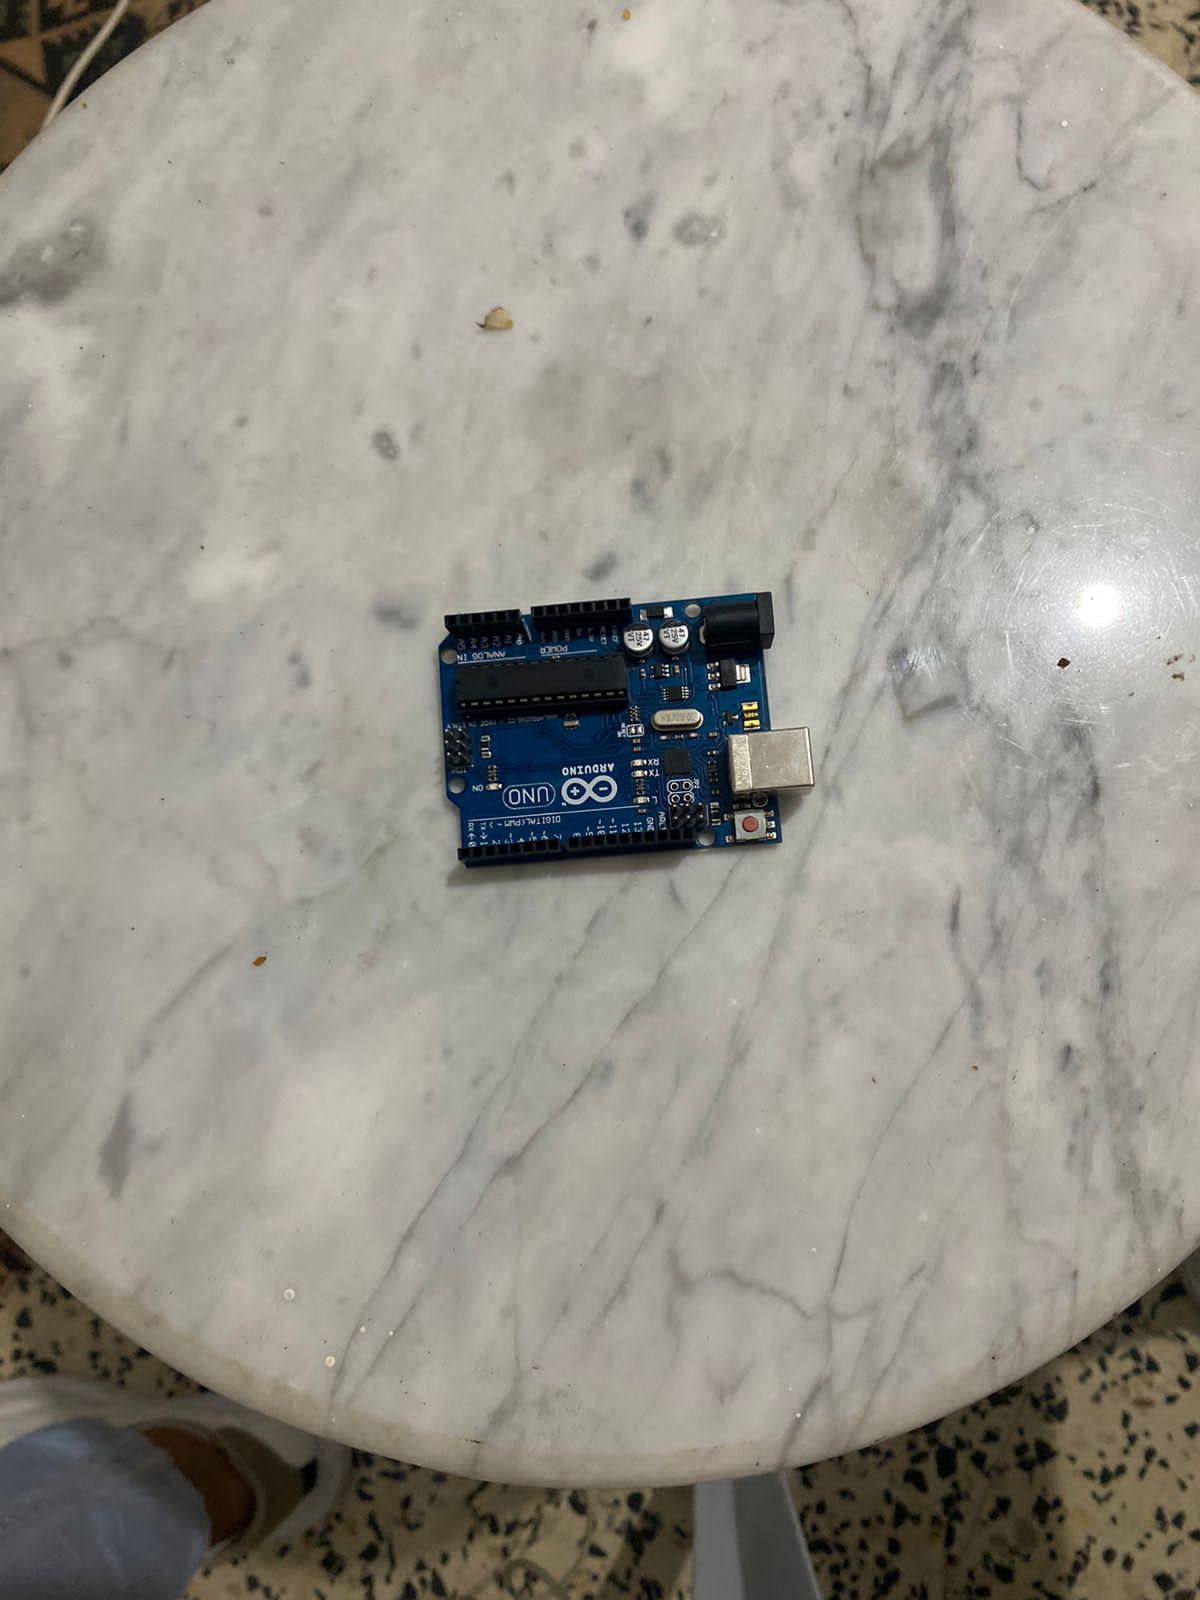arduino-uno: (437, 598, 818, 868)
